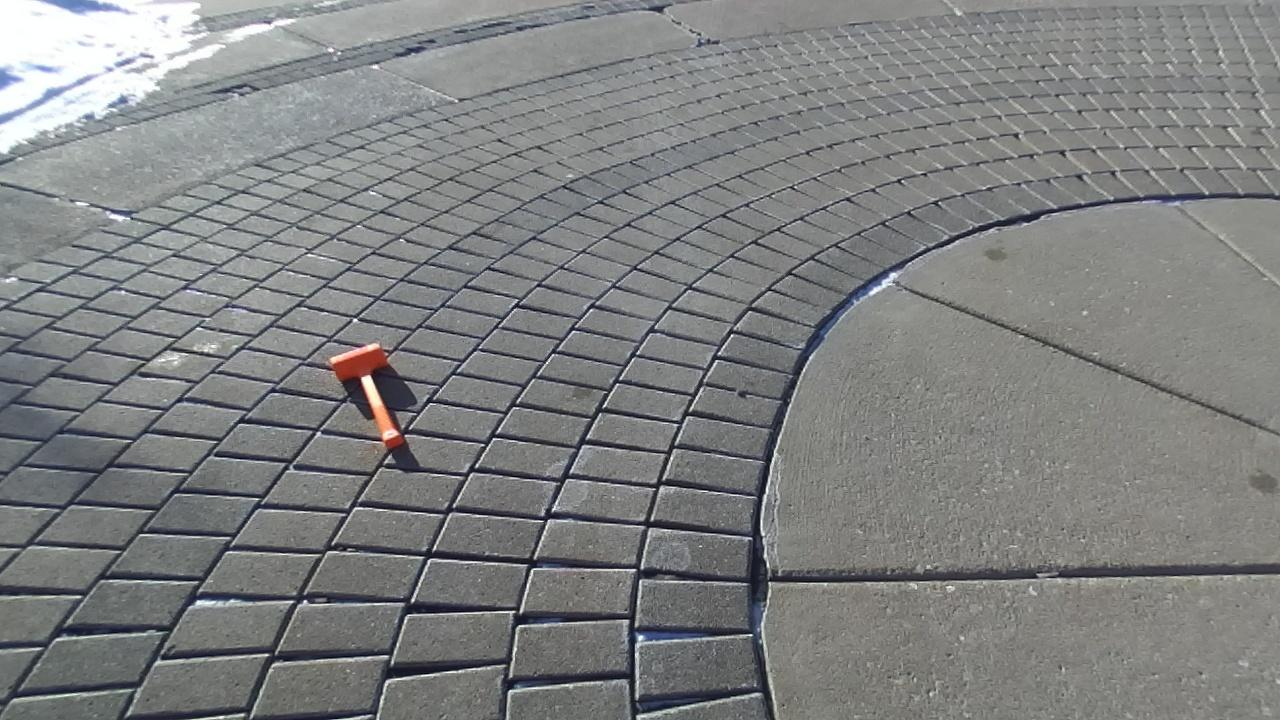mallet: (329, 345, 402, 448)
